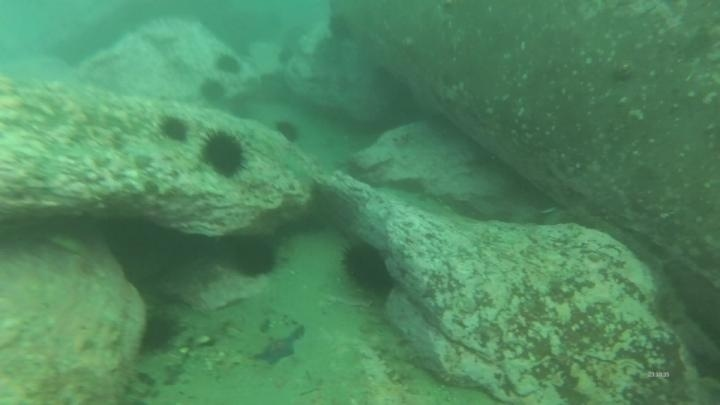echinus: (338, 239, 395, 297), (227, 233, 281, 281), (199, 128, 249, 179), (139, 310, 181, 354), (157, 114, 192, 145), (326, 11, 356, 44), (197, 77, 228, 107), (272, 117, 303, 146), (212, 51, 244, 78), (268, 42, 300, 69)
holothurian: (361, 322, 430, 396)
starfish: (250, 324, 306, 369)
